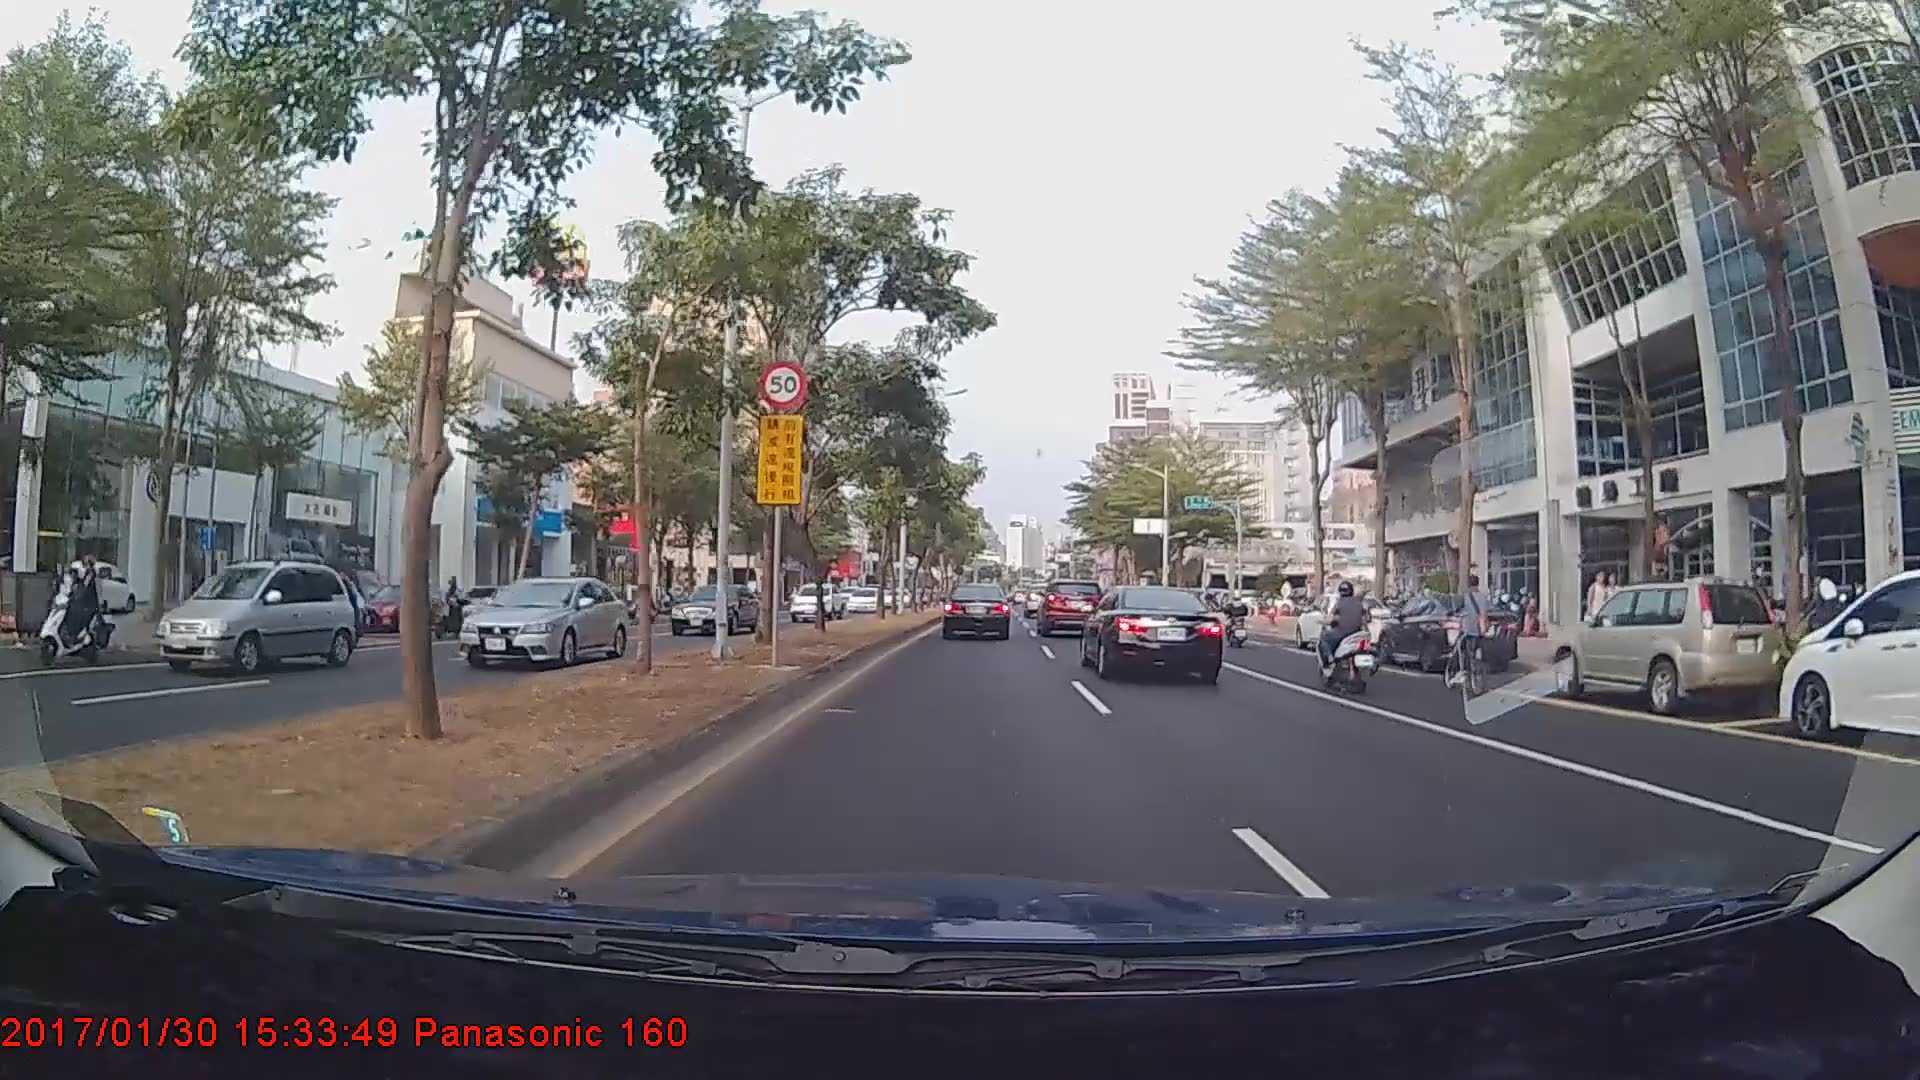pedestrian: (1586, 572, 1610, 652)
rider: (1307, 578, 1387, 699), (40, 554, 117, 668), (1438, 575, 1504, 700), (1346, 585, 1399, 677), (1220, 593, 1255, 650)
vehicle: (1567, 575, 1776, 715), (1776, 566, 1920, 751), (156, 557, 358, 677), (455, 576, 630, 670), (1080, 579, 1225, 685), (1375, 593, 1518, 673), (1291, 591, 1396, 652), (667, 579, 761, 635), (358, 579, 448, 632), (942, 581, 1012, 640), (1036, 581, 1100, 635), (787, 582, 844, 624), (846, 585, 880, 614)
